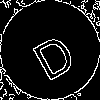D: (25, 25, 79, 82)
